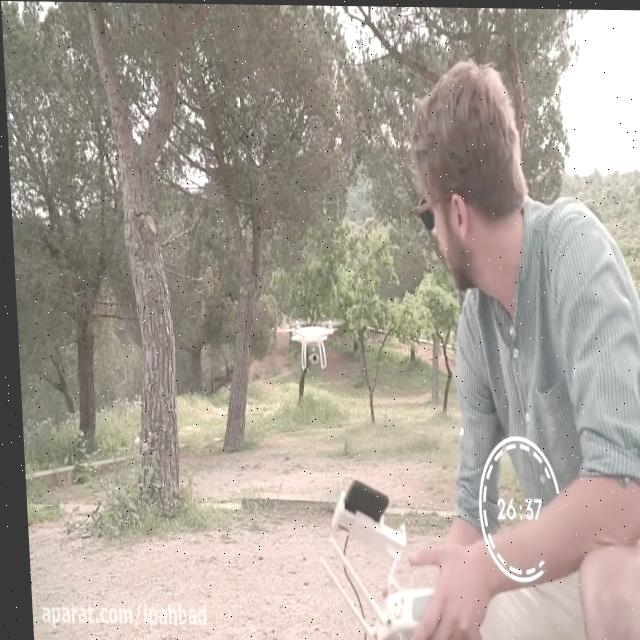drone: (275, 313, 343, 370)
